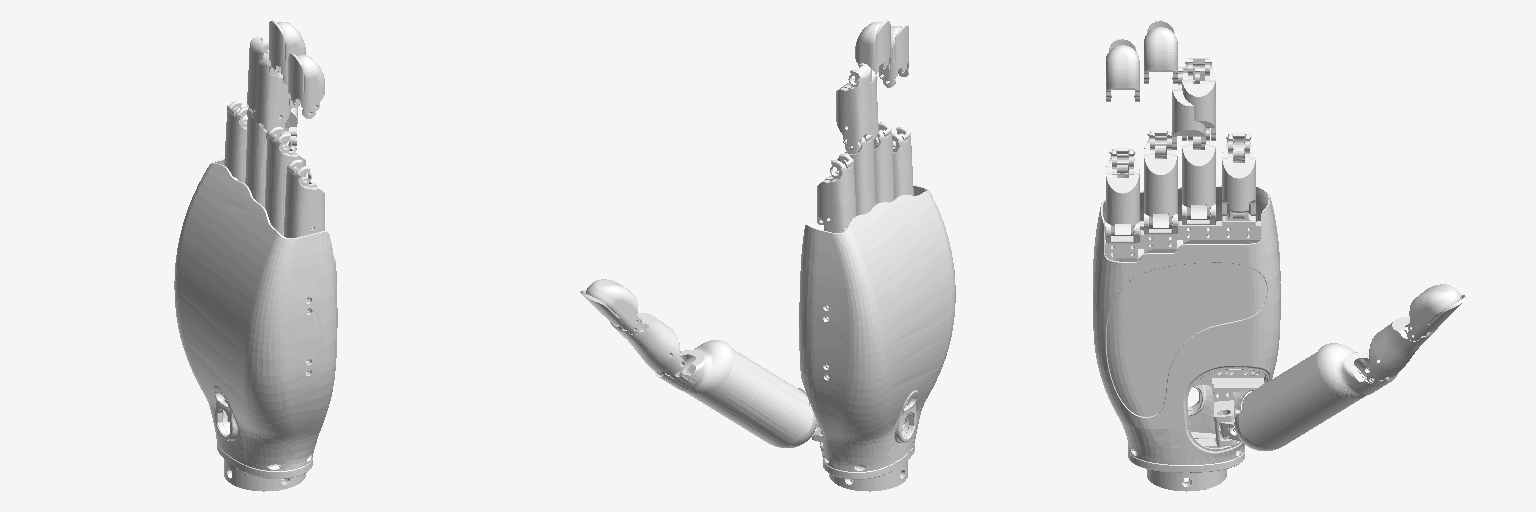
The robot description file, URDF, robot "zwhand_17dof_right":
<?xml version="1.0" encoding="utf-8"?>
<!-- This URDF was automatically created by SolidWorks to URDF Exporter! Originally created by Stephen Brawner (brawner@gmail.com) 
     Commit Version: 1.6.0-4-g7f85cfe  Build Version: 1.6.7995.38578
     For more information, please see http://wiki.ros.org/sw_urdf_exporter -->
<robot
  name="zwhand_17dof_right">
  <link
    name="base_link">
    <inertial>
      <origin
        xyz="-0.00334751315498717 -9.87060418915648E-05 0.0728750696079386"
        rpy="0 0 0" />
      <mass
        value="0.0763799746467642" />
      <inertia
        ixx="0.000136808893519471"
        ixy="5.80849768228373E-08"
        ixz="8.69969846699736E-07"
        iyy="8.5772035596069E-05"
        iyz="-1.50211989767202E-06"
        izz="7.42577430311818E-05" />
    </inertial>
    <visual>
      <origin
        xyz="0 0 0"
        rpy="0 0 0" />
      <geometry>
        <mesh
          filename="package://zwhand_17dof_right/meshes/base_link.STL" />
      </geometry>
      <material
        name="">
        <color
          rgba="1 1 1 1" />
      </material>
    </visual>
    <collision>
      <origin
        xyz="0 0 0"
        rpy="0 0 0" />
      <geometry>
        <mesh
          filename="package://zwhand_17dof_right/meshes/base_link.STL" />
      </geometry>
    </collision>
  </link>
  <link
    name="Link11">
    <inertial>
      <origin
        xyz="0.00439409166664414 0.00911764355638027 0.000448720638245281"
        rpy="0 0 0" />
      <mass
        value="0.00138306011958178" />
      <inertia
        ixx="7.591177910473E-08"
        ixy="-2.30498293875914E-08"
        ixz="1.05599078653656E-10"
        iyy="5.24695211408071E-08"
        iyz="-1.35459434709014E-10"
        izz="1.1650585272924E-07" />
    </inertial>
    <visual>
      <origin
        xyz="0 0 0"
        rpy="0 0 0" />
      <geometry>
        <mesh
          filename="package://zwhand_17dof_right/meshes/Link11.STL" />
      </geometry>
      <material
        name="">
        <color
          rgba="1 1 1 1" />
      </material>
    </visual>
    <collision>
      <origin
        xyz="0 0 0"
        rpy="0 0 0" />
      <geometry>
        <mesh
          filename="package://zwhand_17dof_right/meshes/Link11.STL" />
      </geometry>
    </collision>
  </link>
  <joint
    name="Joint16"
    type="revolute">
    <origin
      xyz="0.0145000000000012 0.0191758453969375 0.0328668299330995"
      rpy="0.0872664625997253 0 0" />
    <parent
      link="base_link" />
    <child
      link="Link11" />
    <axis
      xyz="0 0 -1" />
    <limit
      lower="0"
      upper="1.0472"
      effort="1"
      velocity="1" />
  </joint>
  <link
    name="Link12">
    <inertial>
      <origin
        xyz="-0.0256445225392524 -0.0850697626962446 -0.00491773050030617"
        rpy="0 0 0" />
      <mass
        value="0.136241414927804" />
      <inertia
        ixx="0.000699846324507476"
        ixy="2.38934656324275E-05"
        ixz="-2.32164996056177E-05"
        iyy="0.000318301471062501"
        iyz="4.29961899739986E-06"
        izz="0.000951061019139629" />
    </inertial>
    <visual>
      <origin
        xyz="0 0 0"
        rpy="0 0 0" />
      <geometry>
        <mesh
          filename="package://zwhand_17dof_right/meshes/Link12.STL" />
      </geometry>
      <material
        name="">
        <color
          rgba="1 1 1 1" />
      </material>
    </visual>
    <collision>
      <origin
        xyz="0 0 0"
        rpy="0 0 0" />
      <geometry>
        <mesh
          filename="package://zwhand_17dof_right/meshes/Link12.STL" />
      </geometry>
    </collision>
  </link>
  <joint
    name="Joint3"
    type="revolute">
    <origin
      xyz="8.55267492552558E-05 0.0225481366751174 0.00218716640100842"
      rpy="-1.5707963267949 0 1.04719755119662" />
    <parent
      link="Link11" />
    <child
      link="Link12" />
    <axis
      xyz="0 0 -1" />
    <limit
      lower="0"
      upper="0.7854"
      effort="1"
      velocity="1" />
  </joint>
  <link
    name="Link13">
    <inertial>
      <origin
        xyz="0.0112026062086038 -0.0161887306855046 0.00825007658828168"
        rpy="0 0 0" />
      <mass
        value="0.0056338536086512" />
      <inertia
        ixx="6.49907544117079E-07"
        ixy="2.38320711503857E-07"
        ixz="-1.0523569483176E-12"
        iyy="6.99212260157111E-07"
        iyz="-2.50526292309768E-12"
        izz="8.1491843846749E-07" />
    </inertial>
    <visual>
      <origin
        xyz="0 0 0"
        rpy="0 0 0" />
      <geometry>
        <mesh
          filename="package://zwhand_17dof_right/meshes/Link13.STL" />
      </geometry>
      <material
        name="">
        <color
          rgba="1 1 1 1" />
      </material>
    </visual>
    <collision>
      <origin
        xyz="0 0 0"
        rpy="0 0 0" />
      <geometry>
        <mesh
          filename="package://zwhand_17dof_right/meshes/Link13.STL" />
      </geometry>
    </collision>
  </link>
  <joint
    name="Joint2"
    type="revolute">
    <origin
      xyz="0.0754452633218026 -0.0430611453900553 -0.01845"
      rpy="0 0 0" />
    <parent
      link="Link12" />
    <child
      link="Link13" />
    <axis
      xyz="0 0 -1" />
    <limit
      lower="0"
      upper="1.2217"
      effort="1"
      velocity="1" />
  </joint>
  <link
    name="Link14">
    <inertial>
      <origin
        xyz="0.00912321285541223 -0.013287503978651 0.00819738055268498"
        rpy="0 0 0" />
      <mass
        value="0.00648842636701499" />
      <inertia
        ixx="4.01213852016179E-07"
        ixy="9.23181511174076E-08"
        ixz="7.23041396033579E-12"
        iyy="4.21614363805887E-07"
        iyz="6.24897363279425E-12"
        izz="4.37132320375489E-07" />
    </inertial>
    <visual>
      <origin
        xyz="0 0 0"
        rpy="0 0 0" />
      <geometry>
        <mesh
          filename="package://zwhand_17dof_right/meshes/Link14.STL" />
      </geometry>
      <material
        name="">
        <color
          rgba="1 1 1 1" />
      </material>
    </visual>
    <collision>
      <origin
        xyz="0 0 0"
        rpy="0 0 0" />
      <geometry>
        <mesh
          filename="package://zwhand_17dof_right/meshes/Link14.STL" />
      </geometry>
    </collision>
  </link>
  <joint
    name="Joint1"
    type="revolute">
    <origin
      xyz="0.0260805164596955 -0.0282252790878162 5.23878148150966E-05"
      rpy="0 0 0" />
    <parent
      link="Link13" />
    <child
      link="Link14" />
    <axis
      xyz="0 0 -1" />
    <limit
      lower="0"
      upper="1.3963"
      effort="1"
      velocity="1" />
  </joint>
  <link
    name="Link21">
    <inertial>
      <origin
        xyz="-2.01623105294813E-08 5.55131685481269E-08 0.00478411936690889"
        rpy="0 0 0" />
      <mass
        value="0.000175293795964646" />
      <inertia
        ixx="3.20327721135577E-09"
        ixy="1.26388757063363E-15"
        ixz="-1.93517171416749E-15"
        iyy="2.99431954106679E-09"
        iyz="6.23069486982103E-15"
        izz="9.33099049110965E-10" />
    </inertial>
    <visual>
      <origin
        xyz="0 0 0"
        rpy="0 0 0" />
      <geometry>
        <mesh
          filename="package://zwhand_17dof_right/meshes/Link21.STL" />
      </geometry>
      <material
        name="">
        <color
          rgba="1 1 1 1" />
      </material>
    </visual>
    <collision>
      <origin
        xyz="0 0 0"
        rpy="0 0 0" />
      <geometry>
        <mesh
          filename="package://zwhand_17dof_right/meshes/Link21.STL" />
      </geometry>
    </collision>
  </link>
  <joint
    name="Joint17"
    type="revolute">
    <origin
      xyz="-0.003 0.026 0.1465"
      rpy="-1.5708 0 -1.5708" />
    <parent
      link="base_link" />
    <child
      link="Link21" />
    <axis
      xyz="0 0 -1" />
    <limit
      lower="0"
      upper="0.1745"
      effort="1"
      velocity="1" />
  </joint>
  <link
    name="Link22">
    <inertial>
      <origin
        xyz="-0.00159297362814294 0.0178803724392812 -9.3663529685227E-06"
        rpy="0 0 0" />
      <mass
        value="0.00353148699758135" />
      <inertia
        ixx="5.02224381060809E-07"
        ixy="4.81101293488808E-08"
        ixz="-9.35643263635852E-11"
        iyy="2.14662338246824E-07"
        iyz="-1.94484933556271E-10"
        izz="5.11201216651875E-07" />
    </inertial>
    <visual>
      <origin
        xyz="0 0 0"
        rpy="0 0 0" />
      <geometry>
        <mesh
          filename="package://zwhand_17dof_right/meshes/Link22.STL" />
      </geometry>
      <material
        name="">
        <color
          rgba="1 1 1 1" />
      </material>
    </visual>
    <collision>
      <origin
        xyz="0 0 0"
        rpy="0 0 0" />
      <geometry>
        <mesh
          filename="package://zwhand_17dof_right/meshes/Link22.STL" />
      </geometry>
    </collision>
  </link>
  <joint
    name="Joint6"
    type="revolute">
    <origin
      xyz="0 0 0.0075729"
      rpy="3.1416 -1.5708 0" />
    <parent
      link="Link21" />
    <child
      link="Link22" />
    <axis
      xyz="0 0 -1" />
    <limit
      lower="0"
      upper="1.5708"
      effort="1"
      velocity="1" />
  </joint>
  <link
    name="Link23">
    <inertial>
      <origin
        xyz="0.00173036742558064 0.0194038658984875 0.00702018473966805"
        rpy="0 0 0" />
      <mass
        value="0.00332671523871181" />
      <inertia
        ixx="5.0189723636832E-07"
        ixy="1.80450874860439E-08"
        ixz="3.22142927287787E-10"
        iyy="1.817878902822E-07"
        iyz="-2.52071388015267E-09"
        izz="4.84122152024226E-07" />
    </inertial>
    <visual>
      <origin
        xyz="0 0 0"
        rpy="0 0 0" />
      <geometry>
        <mesh
          filename="package://zwhand_17dof_right/meshes/Link23.STL" />
      </geometry>
      <material
        name="">
        <color
          rgba="1 1 1 1" />
      </material>
    </visual>
    <collision>
      <origin
        xyz="0 0 0"
        rpy="0 0 0" />
      <geometry>
        <mesh
          filename="package://zwhand_17dof_right/meshes/Link23.STL" />
      </geometry>
    </collision>
  </link>
  <joint
    name="Joint5"
    type="revolute">
    <origin
      xyz="-0.00309877968315736 0.0355000016355182 -0.00710000024679022"
      rpy="0 0 0" />
    <parent
      link="Link22" />
    <child
      link="Link23" />
    <axis
      xyz="0 0 -1" />
    <limit
      lower="0"
      upper="1.5708"
      effort="1"
      velocity="1" />
  </joint>
  <link
    name="Link24">
    <inertial>
      <origin
        xyz="0.00212344337927151 0.014357762146042 0.00685000145180472"
        rpy="0 0 0" />
      <mass
        value="0.004357252587498" />
      <inertia
        ixx="2.61726006310356E-07"
        ixy="6.84122199012498E-09"
        ixz="-2.28024729068479E-13"
        iyy="1.60359139736517E-07"
        iyz="-6.67144502136598E-12"
        izz="2.36034816409947E-07" />
    </inertial>
    <visual>
      <origin
        xyz="0 0 0"
        rpy="0 0 0" />
      <geometry>
        <mesh
          filename="package://zwhand_17dof_right/meshes/Link24.STL" />
      </geometry>
      <material
        name="">
        <color
          rgba="1 1 1 1" />
      </material>
    </visual>
    <collision>
      <origin
        xyz="0 0 0"
        rpy="0 0 0" />
      <geometry>
        <mesh
          filename="package://zwhand_17dof_right/meshes/Link24.STL" />
      </geometry>
    </collision>
  </link>
  <joint
    name="Joint4"
    type="revolute">
    <origin
      xyz="0.000531009916053093 0.0359999999999983 0.000249999999993443"
      rpy="0 0 0" />
    <parent
      link="Link23" />
    <child
      link="Link24" />
    <axis
      xyz="0 0 -1" />
    <limit
      lower="0"
      upper="1.3963"
      effort="1"
      velocity="1" />
  </joint>
  <link
    name="Link31">
    <inertial>
      <origin
        xyz="0.000868745319009459 0.02098942201628 -0.00599251522941843"
        rpy="0 0 0" />
      <mass
        value="0.00412923090315214" />
      <inertia
        ixx="8.33731915391634E-07"
        ixy="-2.58792982175749E-08"
        ixz="-5.90400930600074E-11"
        iyy="2.52636997460987E-07"
        iyz="5.97544264415539E-11"
        izz="8.50994323799685E-07" />
    </inertial>
    <visual>
      <origin
        xyz="0 0 0"
        rpy="0 0 0" />
      <geometry>
        <mesh
          filename="package://zwhand_17dof_right/meshes/Link31.STL" />
      </geometry>
      <material
        name="">
        <color
          rgba="1 1 1 1" />
      </material>
    </visual>
    <collision>
      <origin
        xyz="0 0 0"
        rpy="0 0 0" />
      <geometry>
        <mesh
          filename="package://zwhand_17dof_right/meshes/Link31.STL" />
      </geometry>
    </collision>
  </link>
  <joint
    name="Joint9"
    type="revolute">
    <origin
      xyz="0.004 0.012 0.1465"
      rpy="1.5708 0 3.1416" />
    <parent
      link="base_link" />
    <child
      link="Link31" />
    <axis
      xyz="0 0 1" />
    <limit
      lower="0"
      upper="1.5708"
      effort="1"
      velocity="1" />
  </joint>
  <link
    name="Link32">
    <inertial>
      <origin
        xyz="0.0017303674255806 0.0194038658984874 0.00702018473966808"
        rpy="0 0 0" />
      <mass
        value="0.00332671523871179" />
      <inertia
        ixx="5.01897236368311E-07"
        ixy="1.80450874860398E-08"
        ixz="3.22142927287661E-10"
        iyy="1.81787890282198E-07"
        iyz="-2.52071388015335E-09"
        izz="4.84122152024216E-07" />
    </inertial>
    <visual>
      <origin
        xyz="0 0 0"
        rpy="0 0 0" />
      <geometry>
        <mesh
          filename="package://zwhand_17dof_right/meshes/Link32.STL" />
      </geometry>
      <material
        name="">
        <color
          rgba="1 1 1 1" />
      </material>
    </visual>
    <collision>
      <origin
        xyz="0 0 0"
        rpy="0 0 0" />
      <geometry>
        <mesh
          filename="package://zwhand_17dof_right/meshes/Link32.STL" />
      </geometry>
    </collision>
  </link>
  <joint
    name="Joint8"
    type="revolute">
    <origin
      xyz="0.00245529051210972 0.0422499999999829 0.00110000000000033"
      rpy="3.14159265358979 0 3.14159265358979" />
    <parent
      link="Link31" />
    <child
      link="Link32" />
    <axis
      xyz="0 0 -1" />
    <limit
      lower="0"
      upper="1.5708"
      effort="1"
      velocity="1" />
  </joint>
  <link
    name="Link33">
    <inertial>
      <origin
        xyz="0.00212344337927153 0.0143577621460421 0.00685000145180461"
        rpy="0 0 0" />
      <mass
        value="0.00435725258749792" />
      <inertia
        ixx="2.61726006310346E-07"
        ixy="6.84122199012571E-09"
        ixz="-2.28024728052095E-13"
        iyy="1.60359139736516E-07"
        iyz="-6.67144502736485E-12"
        izz="2.36034816409936E-07" />
    </inertial>
    <visual>
      <origin
        xyz="0 0 0"
        rpy="0 0 0" />
      <geometry>
        <mesh
          filename="package://zwhand_17dof_right/meshes/Link33.STL" />
      </geometry>
      <material
        name="">
        <color
          rgba="1 1 1 1" />
      </material>
    </visual>
    <collision>
      <origin
        xyz="0 0 0"
        rpy="0 0 0" />
      <geometry>
        <mesh
          filename="package://zwhand_17dof_right/meshes/Link33.STL" />
      </geometry>
    </collision>
  </link>
  <joint
    name="Joint7"
    type="revolute">
    <origin
      xyz="0.000531009916053095 0.0360000000000283 0.000249999999992786"
      rpy="0 0 0" />
    <parent
      link="Link32" />
    <child
      link="Link33" />
    <axis
      xyz="0 0 -1" />
    <limit
      lower="0"
      upper="1.3963"
      effort="1"
      velocity="1" />
  </joint>
  <link
    name="Link41">
    <inertial>
      <origin
        xyz="-0.000868745319009373 -0.0209894220162799 -0.00599251522941843"
        rpy="0 0 0" />
      <mass
        value="0.00412923090315213" />
      <inertia
        ixx="8.33731915391625E-07"
        ixy="-2.58792982175735E-08"
        ixz="5.90400930598428E-11"
        iyy="2.52636997460987E-07"
        iyz="-5.97544264408575E-11"
        izz="8.50994323799675E-07" />
    </inertial>
    <visual>
      <origin
        xyz="0 0 0"
        rpy="0 0 0" />
      <geometry>
        <mesh
          filename="package://zwhand_17dof_right/meshes/Link41.STL" />
      </geometry>
      <material
        name="">
        <color
          rgba="1 1 1 1" />
      </material>
    </visual>
    <collision>
      <origin
        xyz="0 0 0"
        rpy="0 0 0" />
      <geometry>
        <mesh
          filename="package://zwhand_17dof_right/meshes/Link41.STL" />
      </geometry>
    </collision>
  </link>
  <joint
    name="Joint12"
    type="revolute">
    <origin
      xyz="0.004 -0.007 0.1415"
      rpy="-1.5708 0 0" />
    <parent
      link="base_link" />
    <child
      link="Link41" />
    <axis
      xyz="0 0 1" />
    <limit
      lower="0"
      upper="1.5708"
      effort="1"
      velocity="1" />
  </joint>
  <link
    name="Link42">
    <inertial>
      <origin
        xyz="0.00173036742558075 0.0194038658984877 0.00702018473966811"
        rpy="0 0 0" />
      <mass
        value="0.00332671523871179" />
      <inertia
        ixx="5.01897236368297E-07"
        ixy="1.80450874860446E-08"
        ixz="3.22142927287676E-10"
        iyy="1.81787890282199E-07"
        iyz="-2.52071388015208E-09"
        izz="4.84122152024203E-07" />
    </inertial>
    <visual>
      <origin
        xyz="0 0 0"
        rpy="0 0 0" />
      <geometry>
        <mesh
          filename="package://zwhand_17dof_right/meshes/Link42.STL" />
      </geometry>
      <material
        name="">
        <color
          rgba="1 1 1 1" />
      </material>
    </visual>
    <collision>
      <origin
        xyz="0 0 0"
        rpy="0 0 0" />
      <geometry>
        <mesh
          filename="package://zwhand_17dof_right/meshes/Link42.STL" />
      </geometry>
    </collision>
  </link>
  <joint
    name="Joint11"
    type="revolute">
    <origin
      xyz="-0.00245529051210972 -0.042249999999983 0.00110000000000034"
      rpy="3.14159265358979 0 0" />
    <parent
      link="Link41" />
    <child
      link="Link42" />
    <axis
      xyz="0 0 -1" />
    <limit
      lower="0"
      upper="1.3963"
      effort="1"
      velocity="1" />
  </joint>
  <link
    name="Link43">
    <inertial>
      <origin
        xyz="0.0021234433792715 0.014357762146042 0.00810000145181125"
        rpy="0 0 0" />
      <mass
        value="0.00435725258749801" />
      <inertia
        ixx="2.61726006310356E-07"
        ixy="6.84122199012535E-09"
        ixz="-2.28024728921931E-13"
        iyy="1.60359139736517E-07"
        iyz="-6.67144502170664E-12"
        izz="2.36034816409947E-07" />
    </inertial>
    <visual>
      <origin
        xyz="0 0 0"
        rpy="0 0 0" />
      <geometry>
        <mesh
          filename="package://zwhand_17dof_right/meshes/Link43.STL" />
      </geometry>
      <material
        name="">
        <color
          rgba="1 1 1 1" />
      </material>
    </visual>
    <collision>
      <origin
        xyz="0 0 0"
        rpy="0 0 0" />
      <geometry>
        <mesh
          filename="package://zwhand_17dof_right/meshes/Link43.STL" />
      </geometry>
    </collision>
  </link>
  <joint
    name="Joint10"
    type="revolute">
    <origin
      xyz="0.000531009916054976 0.0360000000000272 -0.00100000000001376"
      rpy="0 0 0" />
    <parent
      link="Link42" />
    <child
      link="Link43" />
    <axis
      xyz="0 0 -1" />
    <limit
      lower="0"
      upper="1.3963"
      effort="1"
      velocity="1" />
  </joint>
  <link
    name="Link51">
    <inertial>
      <origin
        xyz="-0.00116381680683495 -0.0188154039431175 -0.00599226085858628"
        rpy="0 0 0" />
      <mass
        value="0.00365896607296679" />
      <inertia
        ixx="5.89185920964713E-07"
        ixy="-2.73715947015778E-08"
        ixz="2.50960643195748E-11"
        iyy="2.19959685125764E-07"
        iyz="-8.60006928609268E-11"
        izz="6.02016975139215E-07" />
    </inertial>
    <visual>
      <origin
        xyz="0 0 0"
        rpy="0 0 0" />
      <geometry>
        <mesh
          filename="package://zwhand_17dof_right/meshes/Link51.STL" />
      </geometry>
      <material
        name="">
        <color
          rgba="1 1 1 1" />
      </material>
    </visual>
    <collision>
      <origin
        xyz="0 0 0"
        rpy="0 0 0" />
      <geometry>
        <mesh
          filename="package://zwhand_17dof_right/meshes/Link51.STL" />
      </geometry>
    </collision>
  </link>
  <joint
    name="Joint15"
    type="revolute">
    <origin
      xyz="0.00400000000000048 -0.0260000000000003 0.1365"
      rpy="-1.5707963267949 0 0" />
    <parent
      link="base_link" />
    <child
      link="Link51" />
    <axis
      xyz="0 0 1" />
    <limit
      lower="0"
      upper="1.5708"
      effort="1"
      velocity="1" />
  </joint>
  <link
    name="Link52">
    <inertial>
      <origin
        xyz="0.00173036742558073 0.0194038658984877 0.00702018473966805"
        rpy="0 0 0" />
      <mass
        value="0.00332671523871181" />
      <inertia
        ixx="5.01897236368306E-07"
        ixy="1.80450874860468E-08"
        ixz="3.22142927288437E-10"
        iyy="1.81787890282201E-07"
        iyz="-2.52071388015354E-09"
        izz="4.84122152024212E-07" />
    </inertial>
    <visual>
      <origin
        xyz="0 0 0"
        rpy="0 0 0" />
      <geometry>
        <mesh
          filename="package://zwhand_17dof_right/meshes/Link52.STL" />
      </geometry>
      <material
        name="">
        <color
          rgba="1 1 1 1" />
      </material>
    </visual>
    <collision>
      <origin
        xyz="0 0 0"
        rpy="0 0 0" />
      <geometry>
        <mesh
          filename="package://zwhand_17dof_right/meshes/Link52.STL" />
      </geometry>
    </collision>
  </link>
  <joint
    name="Joint14"
    type="revolute">
    <origin
      xyz="-0.00249695382373872 -0.037249999999983 0.00110000000000034"
      rpy="3.14159265358979 0 0" />
    <parent
      link="Link51" />
    <child
      link="Link52" />
    <axis
      xyz="0 0 -1" />
    <limit
      lower="0"
      upper="1.5708"
      effort="1"
      velocity="1" />
  </joint>
  <link
    name="Link53">
    <inertial>
      <origin
        xyz="0.00212344337927152 0.014357762146042 0.0068500014518047"
        rpy="0 0 0" />
      <mass
        value="0.00435725258749798" />
      <inertia
        ixx="2.61726006310355E-07"
        ixy="6.84122199012561E-09"
        ixz="-2.28024729055511E-13"
        iyy="1.60359139736516E-07"
        iyz="-6.67144502171971E-12"
        izz="2.36034816409946E-07" />
    </inertial>
    <visual>
      <origin
        xyz="0 0 0"
        rpy="0 0 0" />
      <geometry>
        <mesh
          filename="package://zwhand_17dof_right/meshes/Link53.STL" />
      </geometry>
      <material
        name="">
        <color
          rgba="1 1 1 1" />
      </material>
    </visual>
    <collision>
      <origin
        xyz="0 0 0"
        rpy="0 0 0" />
      <geometry>
        <mesh
          filename="package://zwhand_17dof_right/meshes/Link53.STL" />
      </geometry>
    </collision>
  </link>
  <joint
    name="Joint13"
    type="revolute">
    <origin
      xyz="0.000531009916049095 0.0360000000000283 0.00024999999999278"
      rpy="0 0 0" />
    <parent
      link="Link52" />
    <child
      link="Link53" />
    <axis
      xyz="0 0 -1" />
    <limit
      lower="0"
      upper="1.3963"
      effort="1"
      velocity="1" />
  </joint>
</robot>

--- What the picture shows (computed from the rendered views, not written in the file) ---
3 views of the same robot in one strip: view 1: azimuth 30°, elevation 25°; view 2: azimuth 150°, elevation 25°; view 3: azimuth 270°, elevation 25° (orthographic).
Robot: zwhand_17dof_right — 18 links, 17 joints (17 revolute); root link base_link; default pose: every joint at zero.
Visible links, largest first — view 1: base_link, Link51, Link41, Link42, Link53, Link31, Link22, Link43, Link32; view 2: base_link, Link12, Link32, Link22, Link13, Link14, Link43, Link31, Link41, Link51, Link53; view 3: base_link, Link12, Link41, Link51, Link31, Link22, Link13, Link14, Link32, Link43, Link53, Link42.
Boxes of the visible links, x1,y1,x2,y2 form: base_link: [174, 159, 337, 491]; Link51: [284, 160, 324, 237]; Link41: [265, 127, 305, 233]; Link42: [252, 51, 291, 139]; Link53: [288, 53, 324, 118]; Link31: [245, 108, 285, 206]; Link22: [224, 101, 247, 182]; Link43: [269, 20, 305, 85]; Link32: [247, 37, 280, 130]; base_link: [799, 185, 955, 491]; Link12: [653, 340, 816, 447]; Link32: [836, 63, 872, 154]; Link22: [817, 154, 856, 232]; Link13: [610, 313, 685, 378]; Link14: [580, 279, 640, 334]; Link43: [855, 20, 890, 79]; Link31: [837, 135, 875, 215]; Link41: [874, 122, 894, 203]; Link51: [892, 127, 913, 198]; Link53: [879, 25, 908, 87]; base_link: [1093, 185, 1280, 491]; Link12: [1234, 343, 1397, 450]; Link41: [1144, 129, 1177, 228]; Link51: [1106, 147, 1139, 235]; Link31: [1182, 127, 1215, 219]; Link22: [1222, 132, 1255, 215]; Link13: [1364, 316, 1437, 383]; Link14: [1407, 284, 1466, 340]; Link32: [1182, 58, 1215, 140]; Link43: [1144, 20, 1177, 83]; Link53: [1106, 39, 1139, 101]; Link42: [1172, 67, 1205, 149].
Bounding box of the posed robot: 0.1217 × 0.1868 × 0.2488 m (x, y, z).
14 mesh visuals loaded from 18 distinct referenced files (14 binary STL); not drawn: 4 (reference not matched to a file when rendering).
